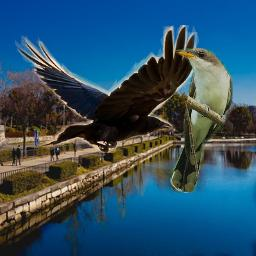Crow: (15, 25, 199, 153)
Cuckoo: (170, 48, 233, 193)
